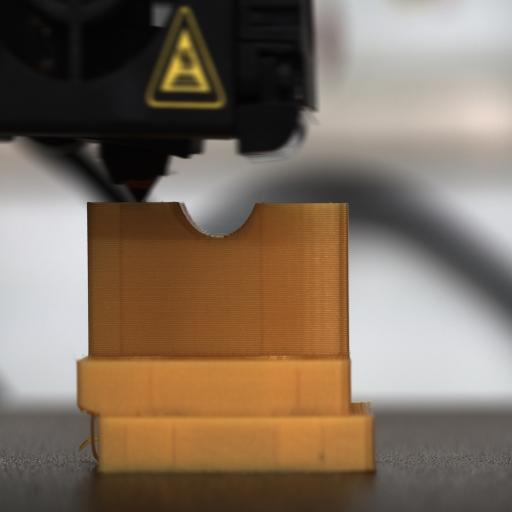layer_shift: (76, 399, 376, 428)
